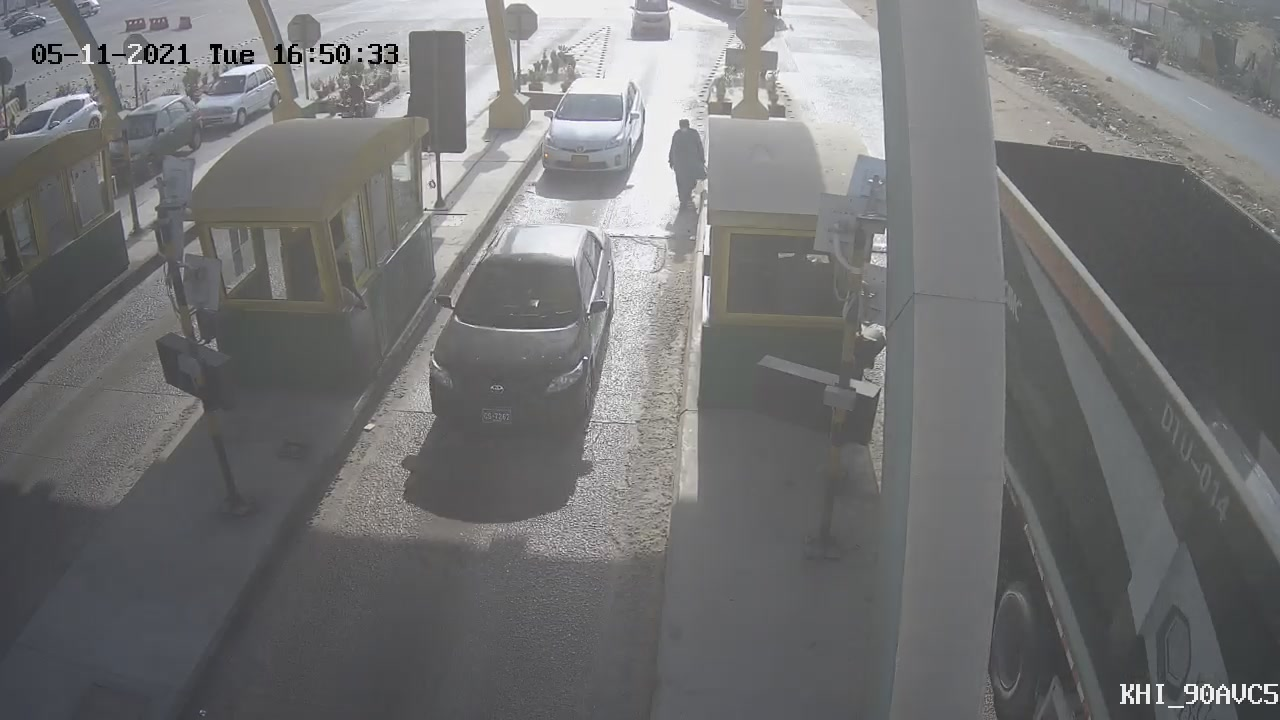F1: (403, 207, 637, 455), (527, 66, 656, 198)
